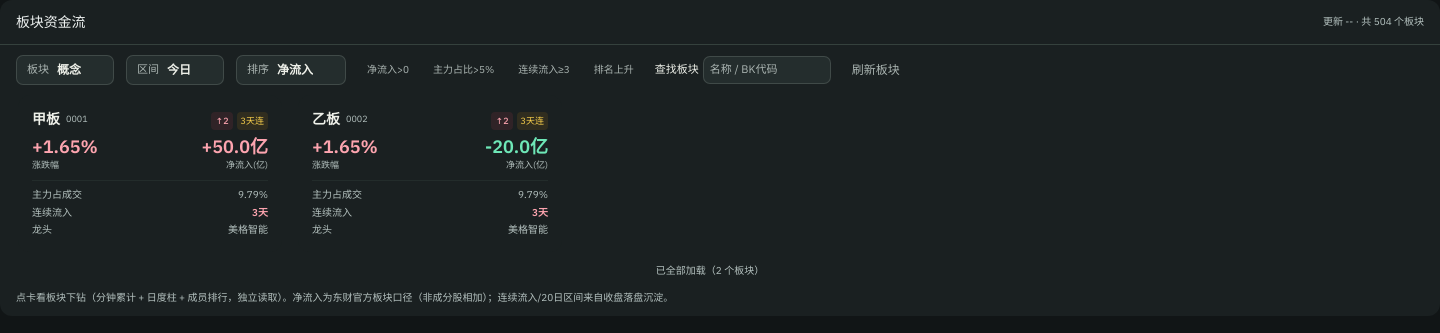
Scenario: BoardFlowPanel › 筛选 chip『净流入>0』剔除净流出板块
Click the button "净流入>0": (388, 70) [358,56,418,84]
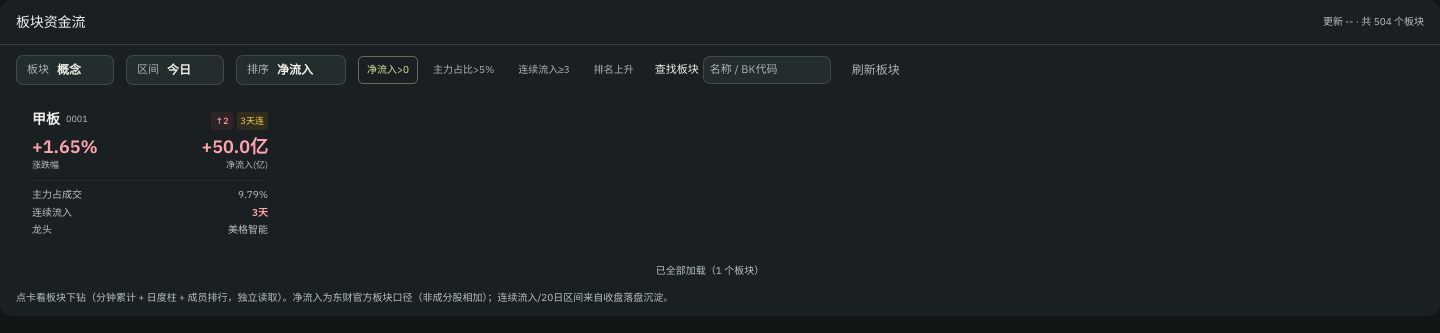
Expected: the element with test id "board-flow-table" shows "甲板", [32,109,60,129]
Result: the button with test id "board-flow-table" no longer shows "乙板"
